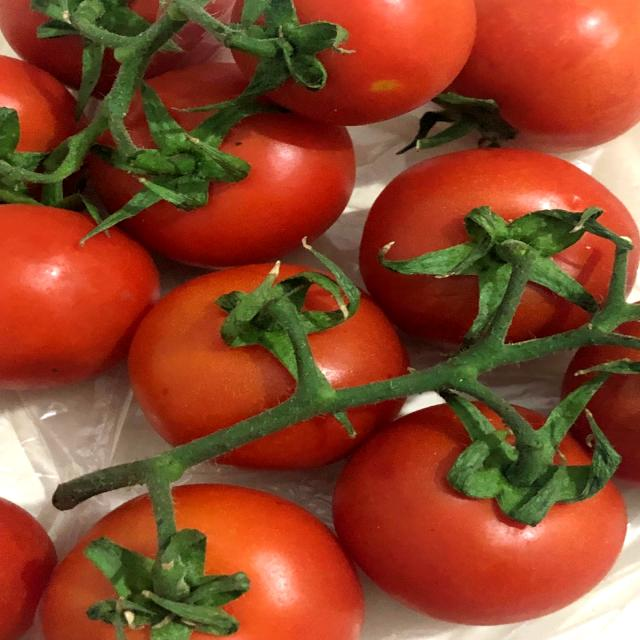tomato: (327, 394, 632, 628), (132, 254, 413, 469), (358, 145, 640, 352), (75, 59, 360, 259), (41, 480, 372, 640)
